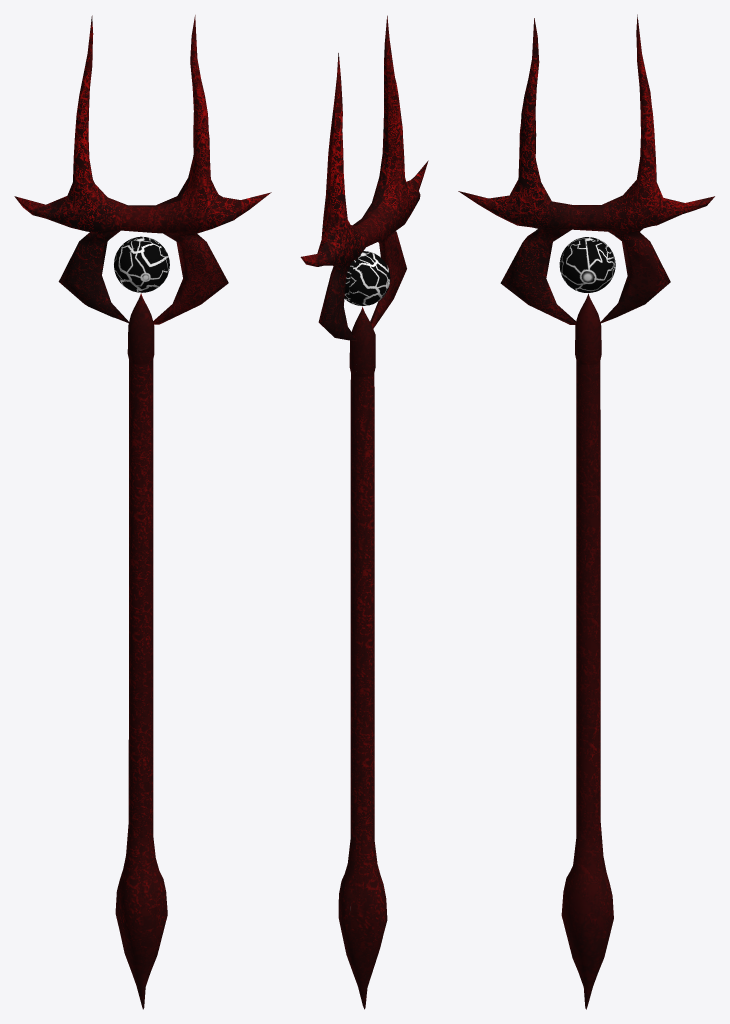
File: Bident.fbx
3 views of the same model, side by side, from view 1: azimuth 90°, elevation 25°; view 2: azimuth 150°, elevation 25°; view 3: azimuth 270°, elevation 25° (orthographic).
Parts seen in each view (by area): view 1: Bident; view 2: Bident; view 3: Bident.
Part boxes in pixels (<box>): Bident: <box>14,15,271,1009</box>; Bident: <box>300,15,428,1009</box>; Bident: <box>458,14,714,1009</box>.
Size of the model in its own units: 22.74 by 445 by 104.
